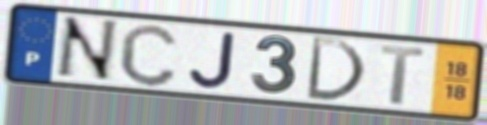3: (248, 33, 299, 98)
C: (116, 21, 181, 89)
D: (302, 34, 369, 105)
J: (187, 30, 239, 91)
N: (51, 14, 122, 84)
T: (378, 44, 428, 107)
